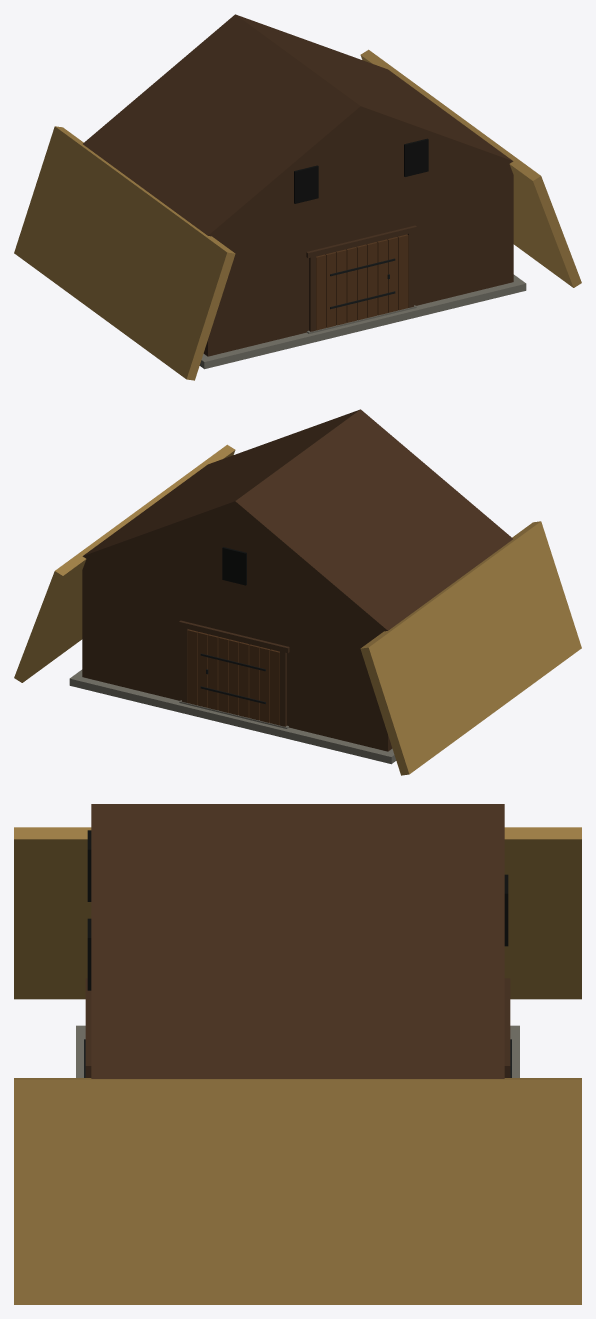
The model's file is house_barn.obj.
The picture shows the model from 3 angles, top to bottom: view 1: azimuth 30°, elevation 25°; view 2: azimuth 150°, elevation 25°; view 3: azimuth 270°, elevation 25°; orthographic projection. The views are drawn at different scales.
Visible parts, largest first — view 1: house_barn walls, house_barn roof slope, house_barn door plank, house_barn footing, house_barn vent, house_barn door jamb, house_barn door lintel; view 2: house_barn walls, house_barn roof slope, house_barn door plank, house_barn footing, house_barn door jamb, house_barn vent, house_barn door lintel; view 3: house_barn roof slope, house_barn walls, house_barn door lintel, house_barn vent, house_barn footing.
Part boxes in pixels (x1,y1,x2,y2): house_barn walls: (83, 14, 513, 356); house_barn roof slope: (14, 49, 581, 380); house_barn door plank: (316, 234, 408, 330); house_barn footing: (199, 274, 526, 369); house_barn vent: (294, 138, 428, 203); house_barn door jamb: (309, 232, 414, 331); house_barn door lintel: (306, 225, 416, 258); house_barn walls: (82, 409, 512, 751); house_barn roof slope: (14, 444, 581, 775); house_barn door plank: (187, 629, 279, 725); house_barn footing: (69, 669, 396, 764); house_barn door jamb: (181, 627, 286, 726); house_barn vent: (222, 547, 246, 585); house_barn door lintel: (179, 620, 289, 653); house_barn roof slope: (14, 827, 581, 1304); house_barn walls: (91, 804, 504, 1078); house_barn door lintel: (85, 978, 510, 1074); house_barn vent: (87, 830, 508, 990); house_barn footing: (76, 1025, 519, 1077).
Size of the model in its own units: 1164 by 620 by 880.
